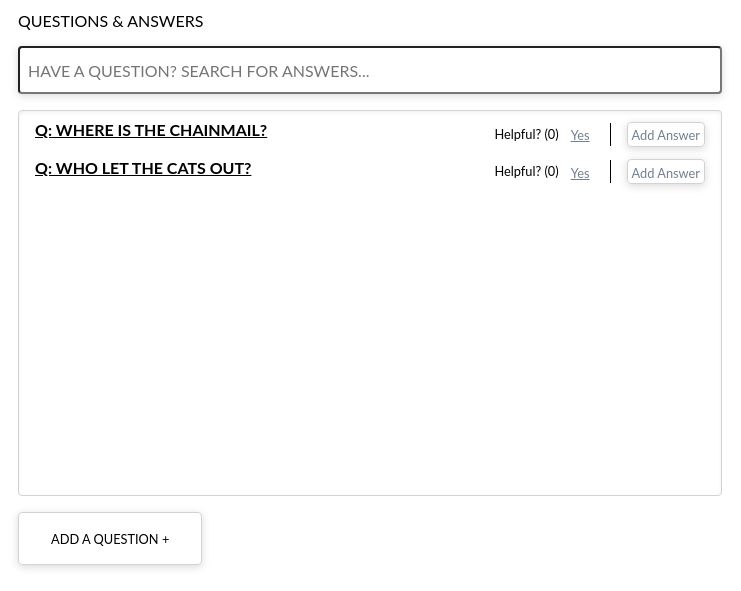
Test case: Question & Answers › should open the modal clicking on add question button
Click the button "ADD A QUESTION +". click: point(110, 539)
box: [18,512,202,565]
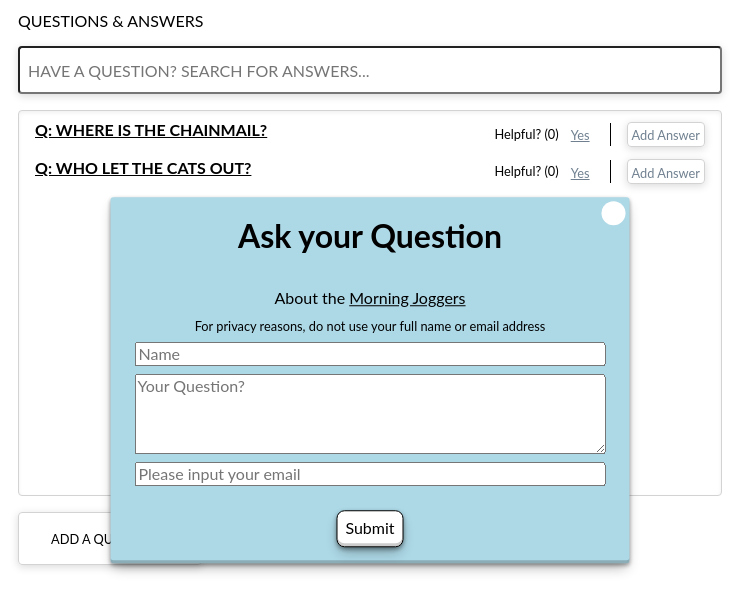
Now the element with test id "modal" is shown, box [110,197,630,563]
